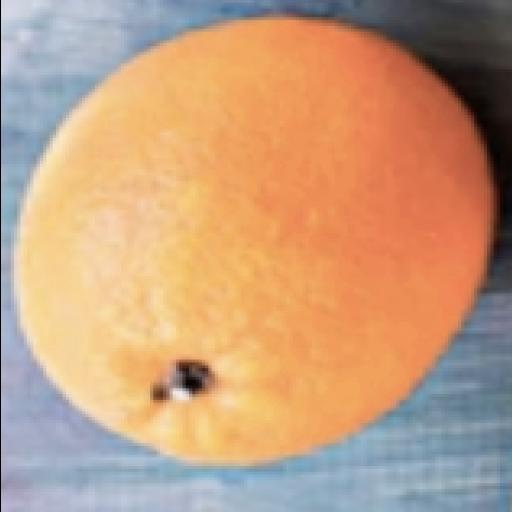orange: (18, 17, 493, 462)
